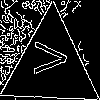V: (26, 40, 67, 76)
